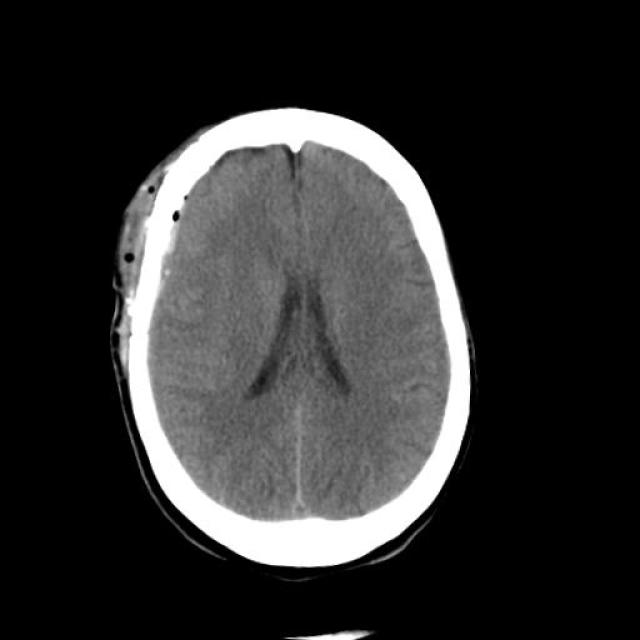Subdural: (126, 160, 210, 338)
